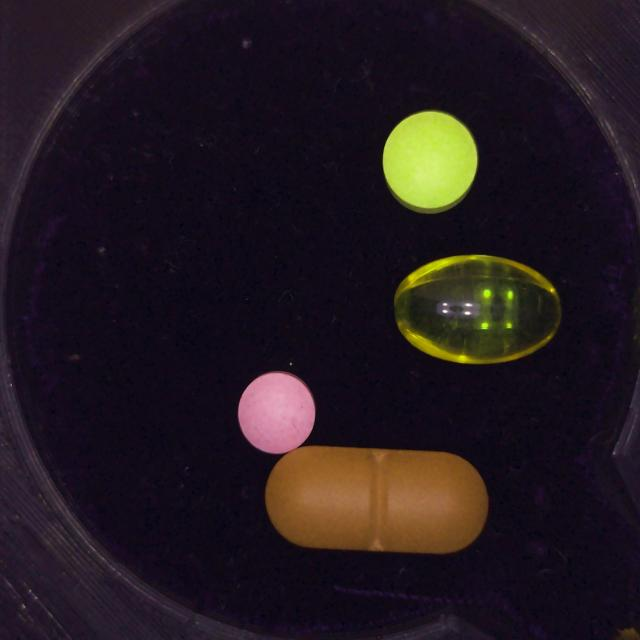Pill: (266, 446, 488, 554), (395, 255, 561, 363), (383, 110, 478, 214), (238, 372, 315, 453)
